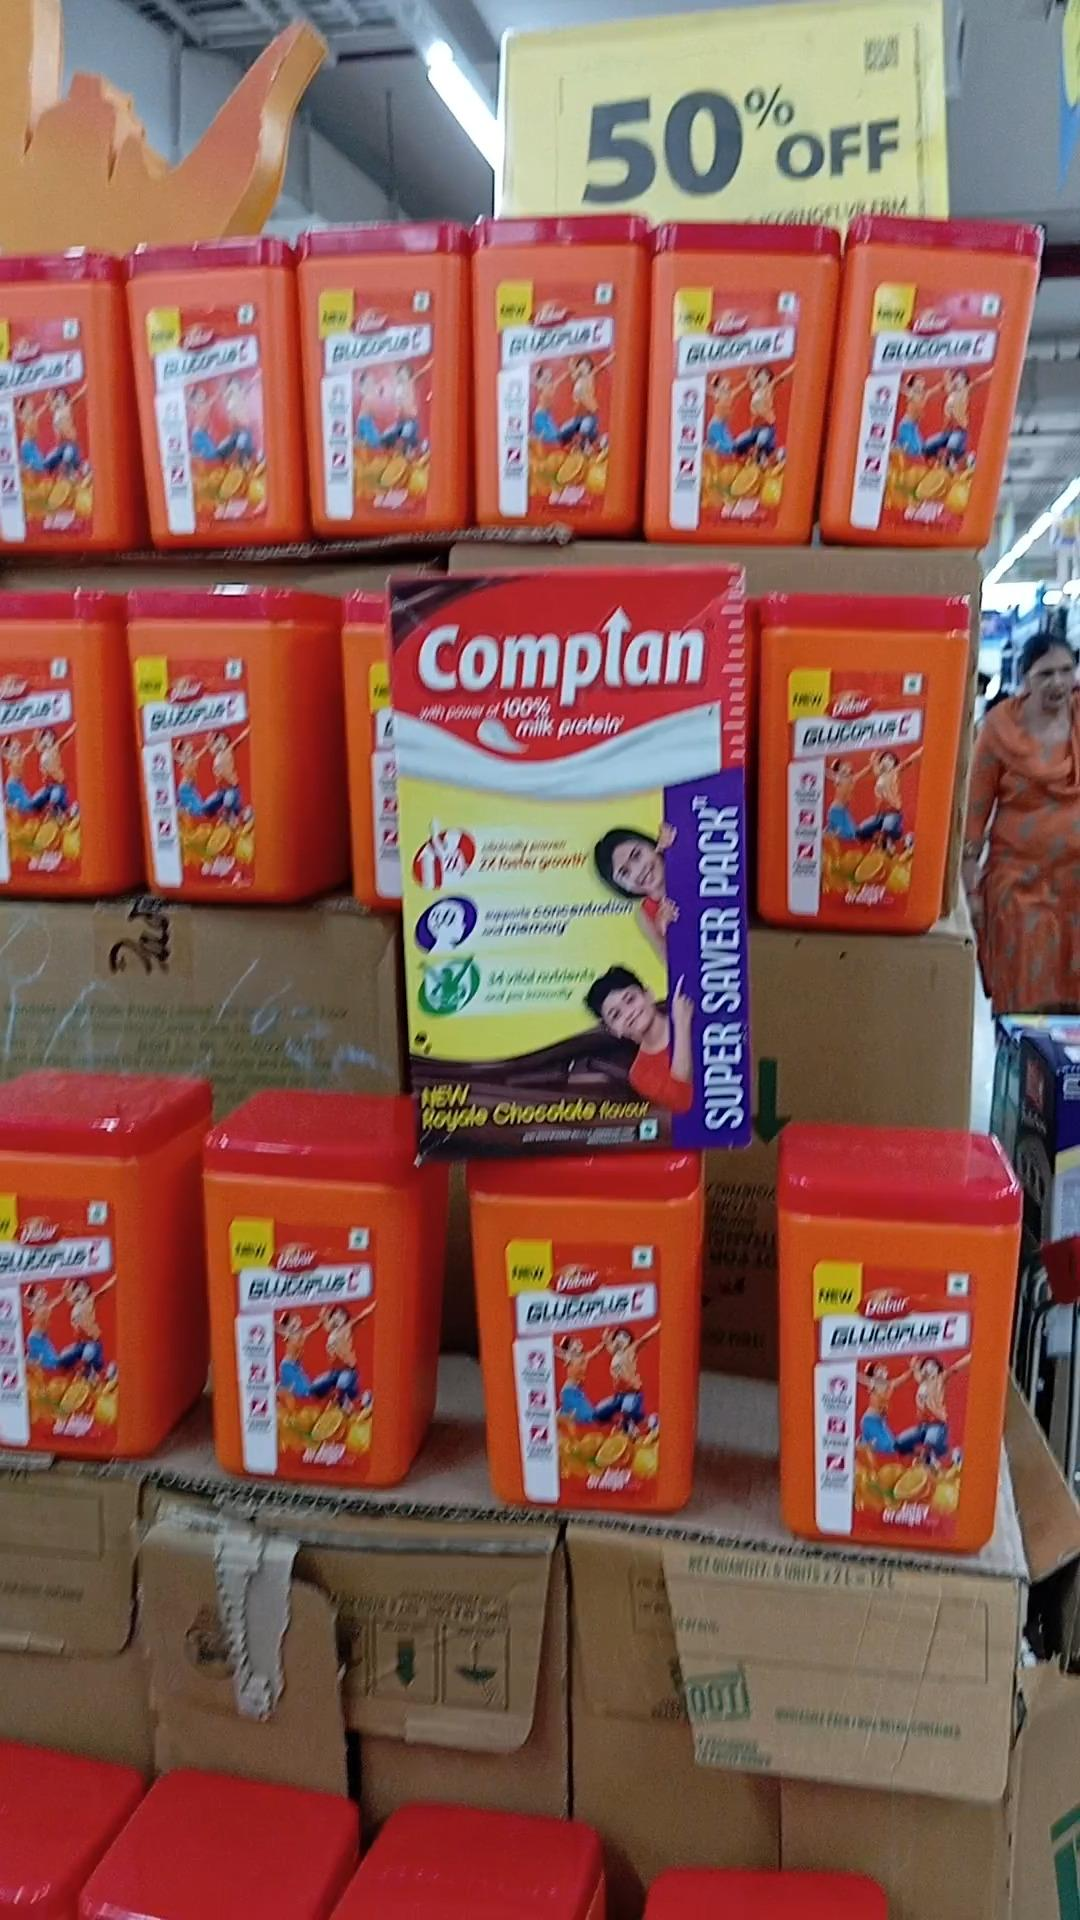COMPLAN_CHOCOLATE_1_KG_PACK: (392, 567, 758, 1154)
